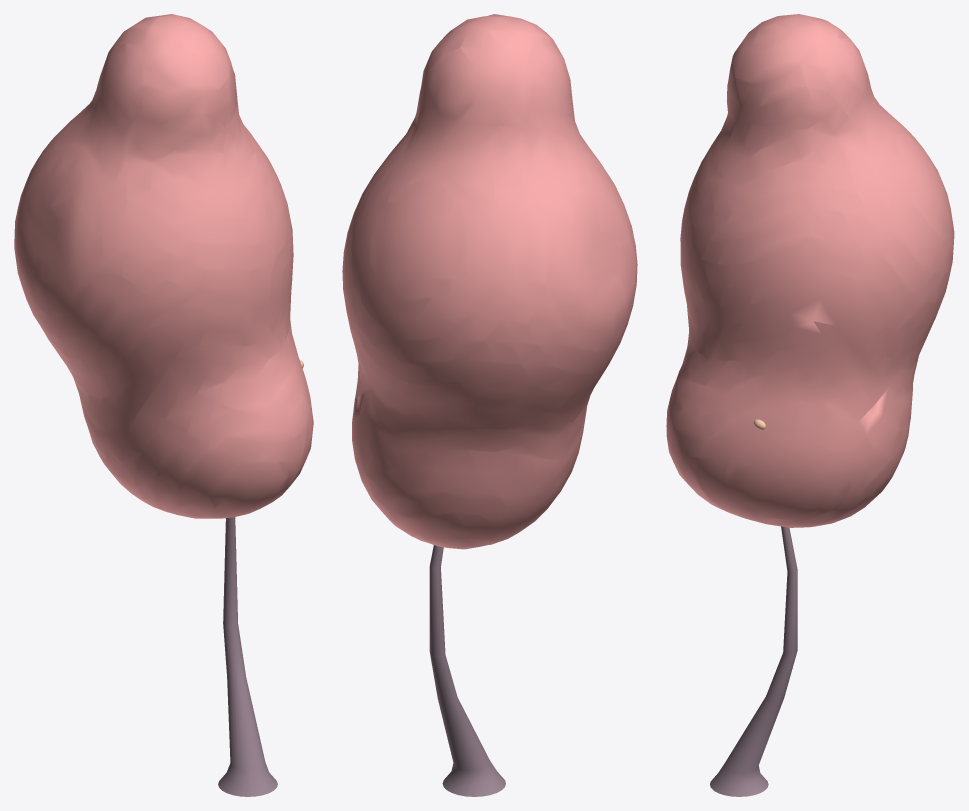
The model's file is Cartoon_Trees_Tree_3.glb.
The picture shows the model from 3 angles, left to right: view 1: azimuth 30°, elevation 25°; view 2: azimuth 150°, elevation 25°; view 3: azimuth 270°, elevation 25°; orthographic projection. The views are drawn at different scales.
Visible parts, largest first — view 1: Spheres, Wood_2; view 2: Spheres, Wood_2; view 3: Spheres, Wood_2.
Boxes of the visible parts, left/top/right/bottom form: Spheres: left=14, top=14, right=313, bottom=518; Wood_2: left=218, top=517, right=277, bottom=796; Spheres: left=342, top=14, right=637, bottom=549; Wood_2: left=429, top=545, right=505, bottom=796; Spheres: left=666, top=14, right=954, bottom=527; Wood_2: left=710, top=526, right=797, bottom=796.
Bounding box in the file's own units: 39.04 × 115 × 40.48.
